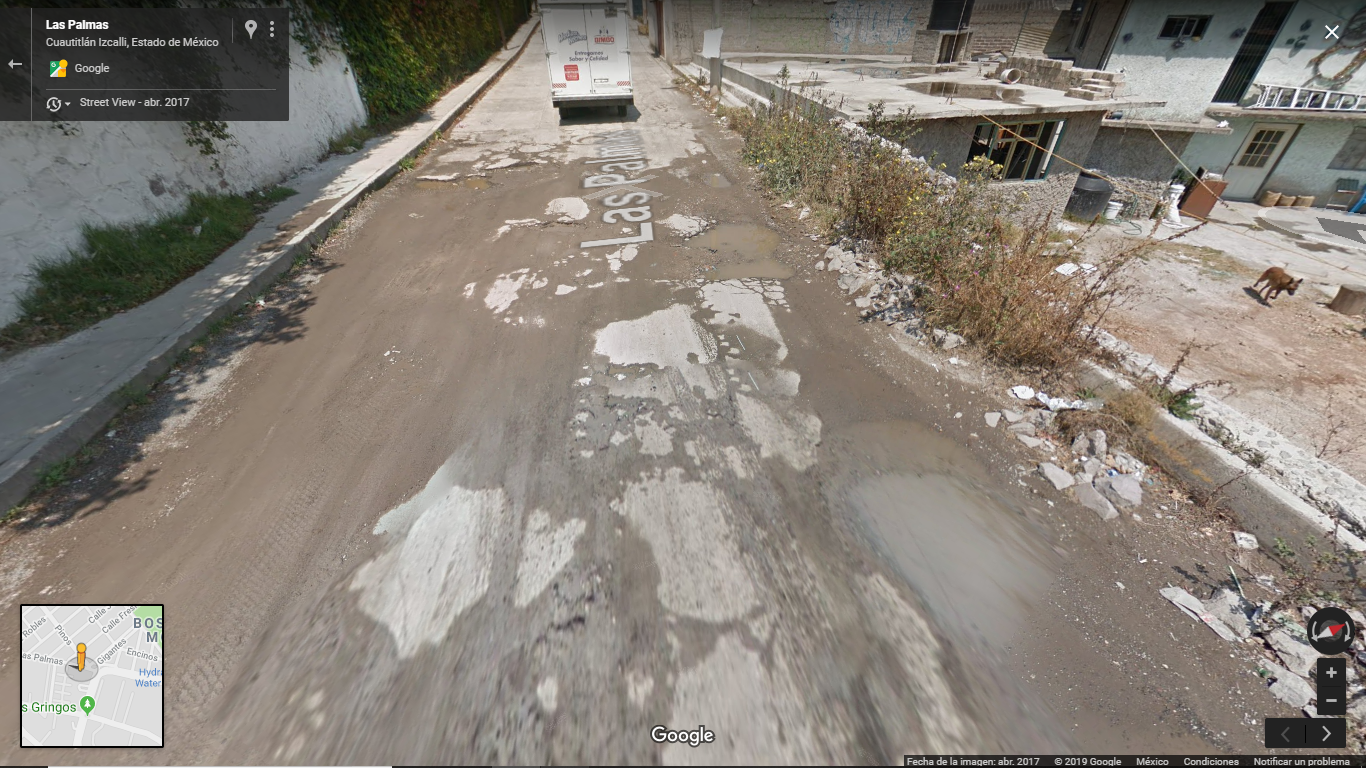pothole: (676, 195, 791, 289), (409, 171, 546, 196)
